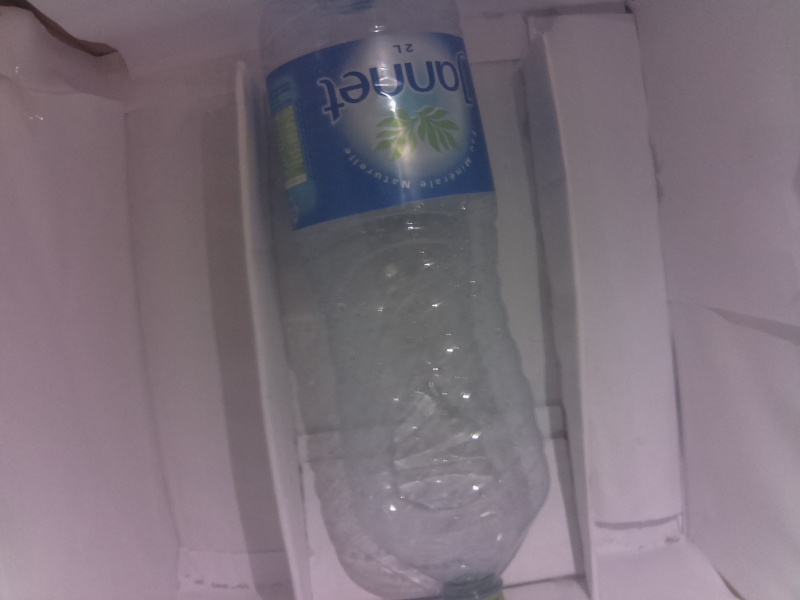botolplastik: (260, 6, 551, 600)
